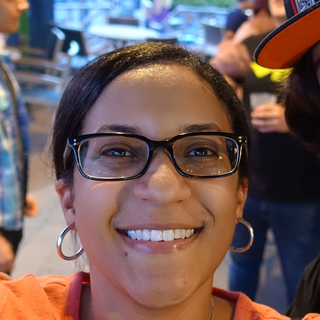eye: (93, 143, 143, 161), (182, 142, 221, 162)
